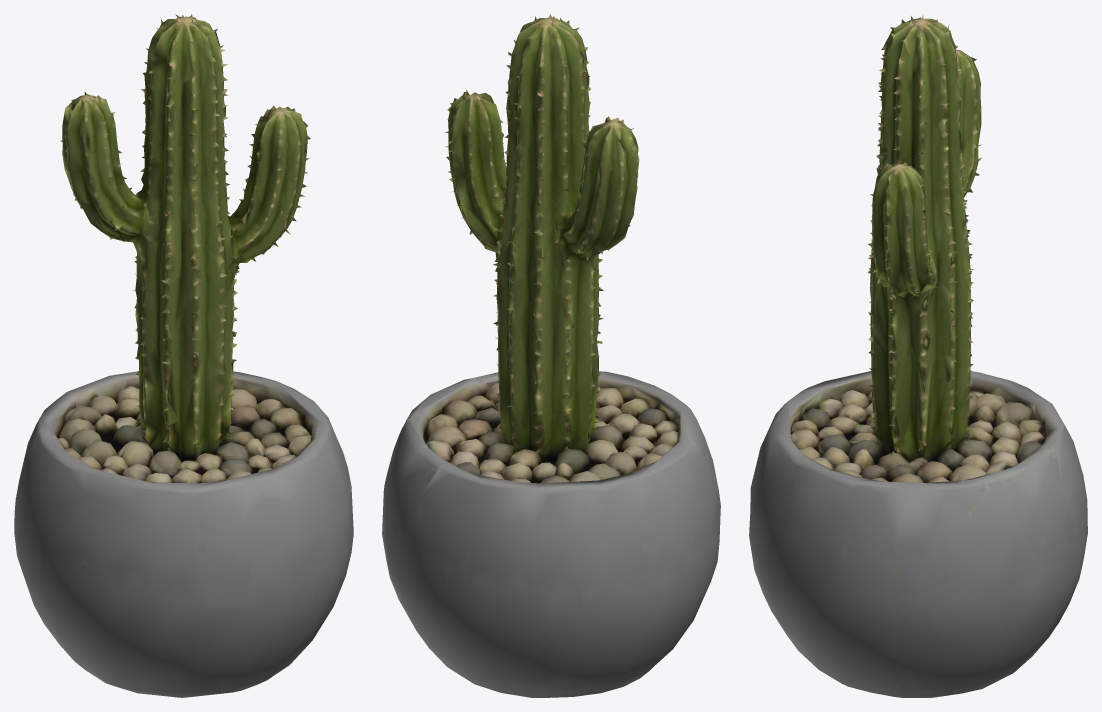
Rendered from cactus.lod1.glb.
3 views of the same model, side by side, from view 1: azimuth 30°, elevation 25°; view 2: azimuth 150°, elevation 25°; view 3: azimuth 270°, elevation 25° (orthographic).
Visible parts, largest first — view 1: tripo_node_db04446c-8393-4553-afaf-8690135746d2; view 2: tripo_node_db04446c-8393-4553-afaf-8690135746d2; view 3: tripo_node_db04446c-8393-4553-afaf-8690135746d2.
Part boxes in pixels (box(x1,y1,x2,y2)): tripo_node_db04446c-8393-4553-afaf-8690135746d2: box(14, 14, 353, 697); tripo_node_db04446c-8393-4553-afaf-8690135746d2: box(382, 14, 720, 697); tripo_node_db04446c-8393-4553-afaf-8690135746d2: box(749, 14, 1087, 697).
Size of the model in its own units: 0.4547 by 0.95 by 0.4547.
Materials: 1 (1 with a texture image).
